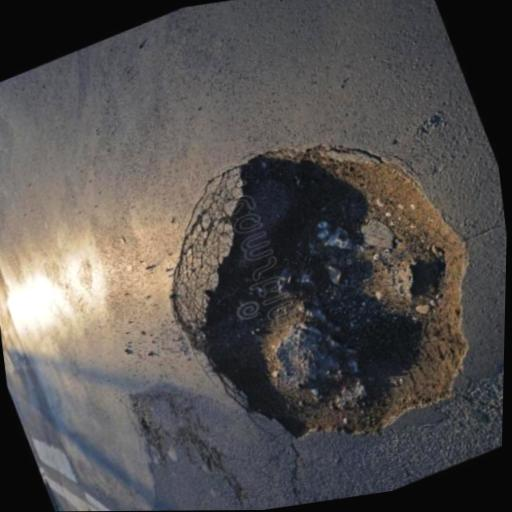pothole: (169, 136, 474, 439)
